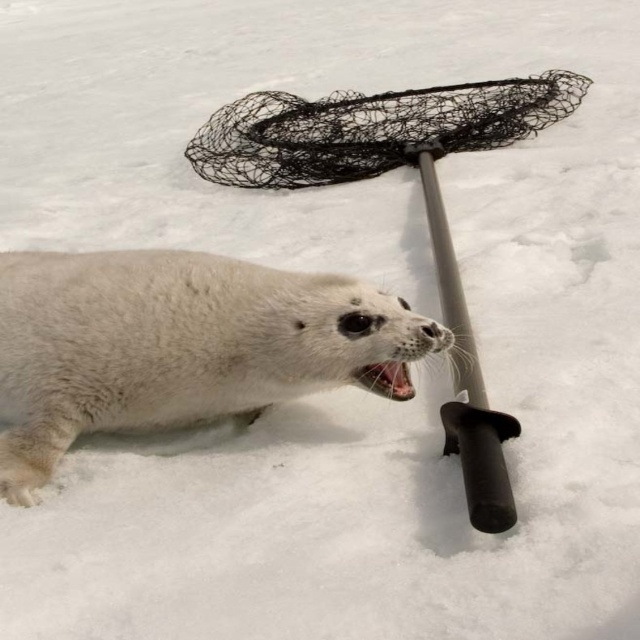Harbor seal: (0, 248, 476, 512)
